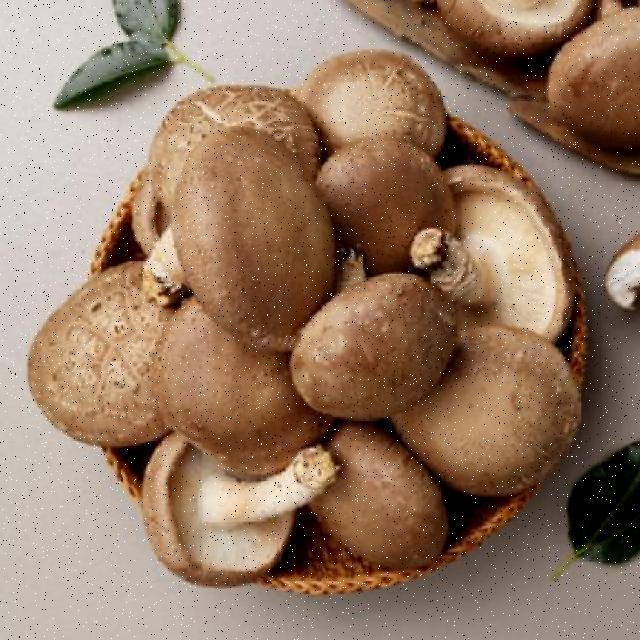Mushroom: (103, 132, 340, 362), (124, 411, 328, 594)
